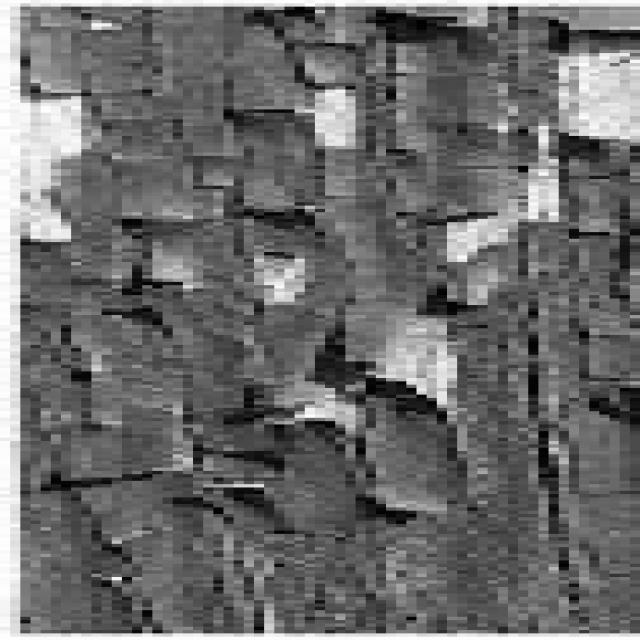peeling paint: (16, 4, 640, 634)
